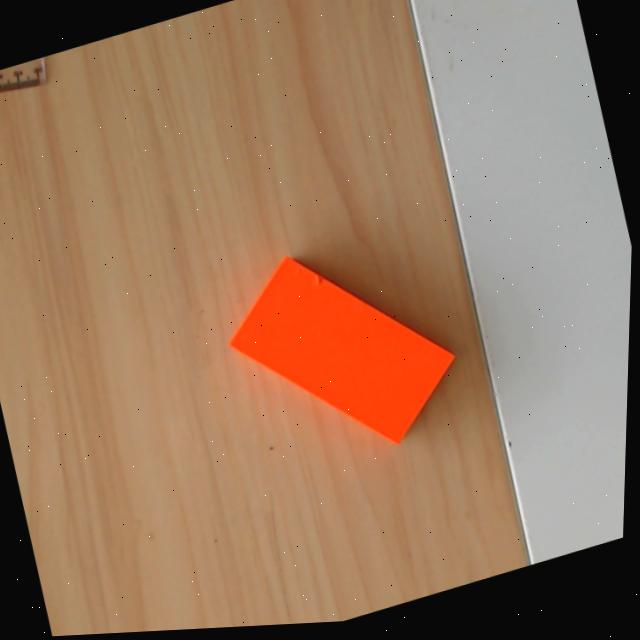Balok-Jingga-1005025: (228, 254, 455, 447)
